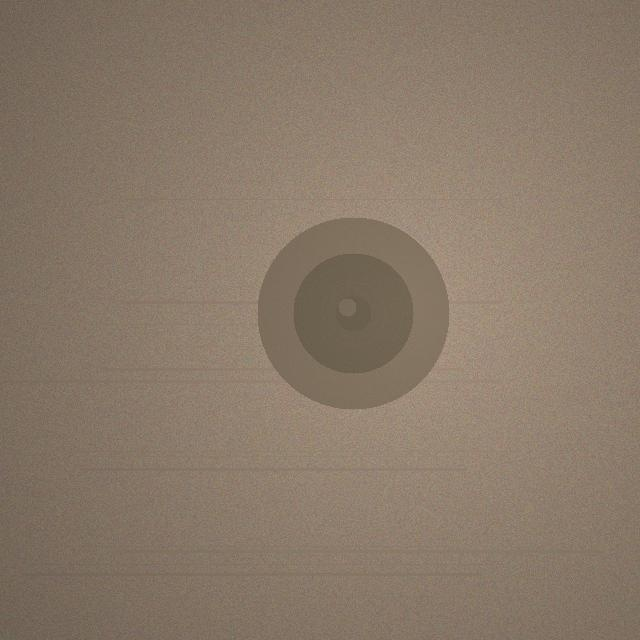good: (257, 217, 449, 409)
